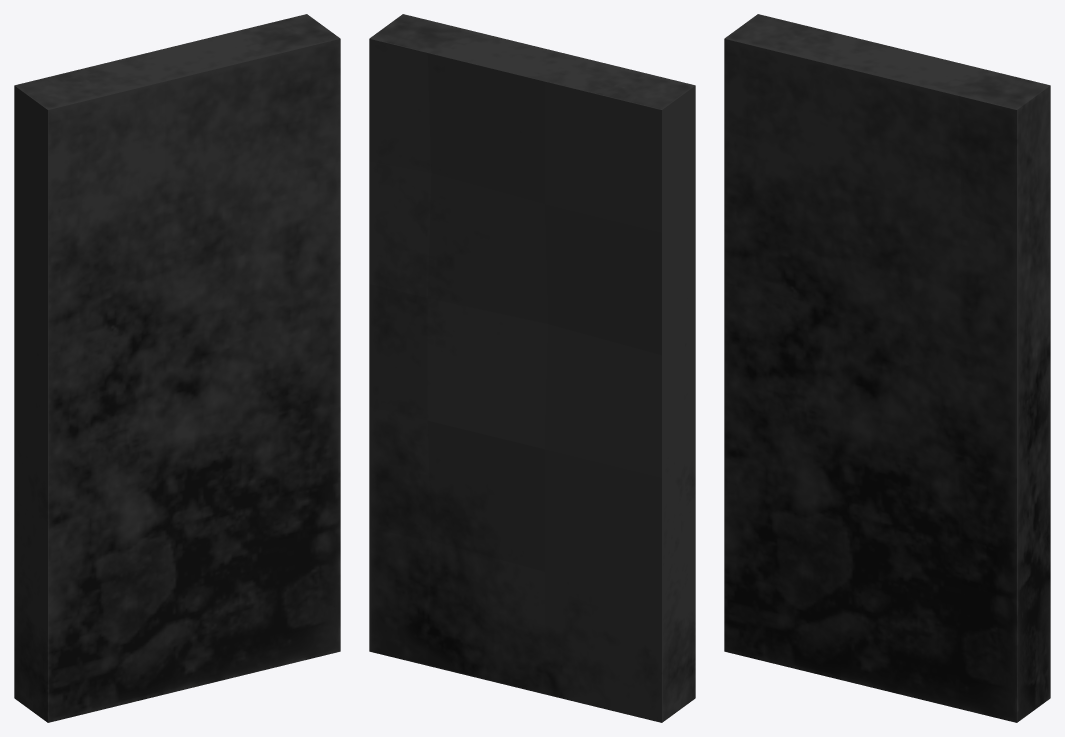
The model's file is 2.5x5WallTX.fbx.
3 views of the same model, side by side, from view 1: azimuth 30°, elevation 25°; view 2: azimuth 150°, elevation 25°; view 3: azimuth 330°, elevation 25° (orthographic).
Parts seen in each view (by area): view 1: pBack_Wall6; view 2: pBack_Wall6; view 3: pBack_Wall6.
Part boxes in pixels (x1,y1,x2,y2): pBack_Wall6: (14,14,340,722); pBack_Wall6: (369,14,695,722); pBack_Wall6: (724,14,1050,722).
Bounding box in the file's own units: 2.5 × 5 × 0.5.
